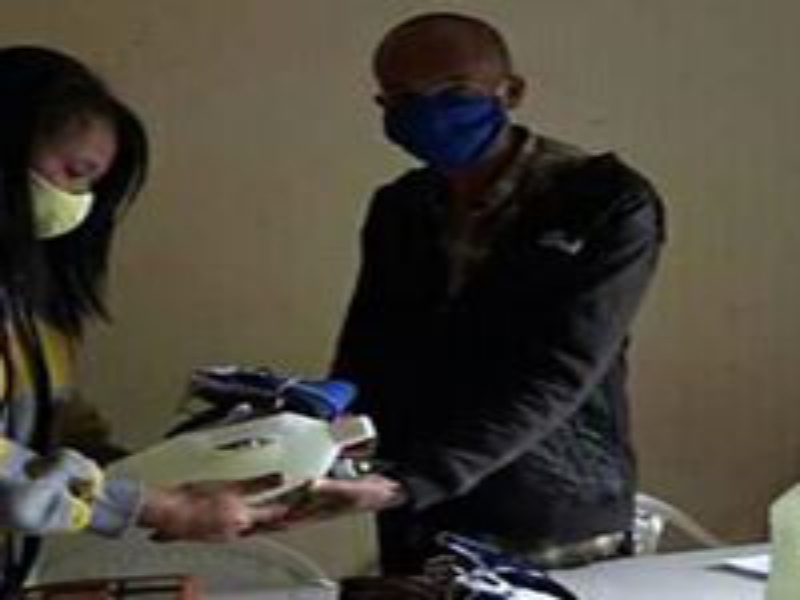ManaoArotava: (355, 8, 537, 174), (18, 62, 136, 260)
